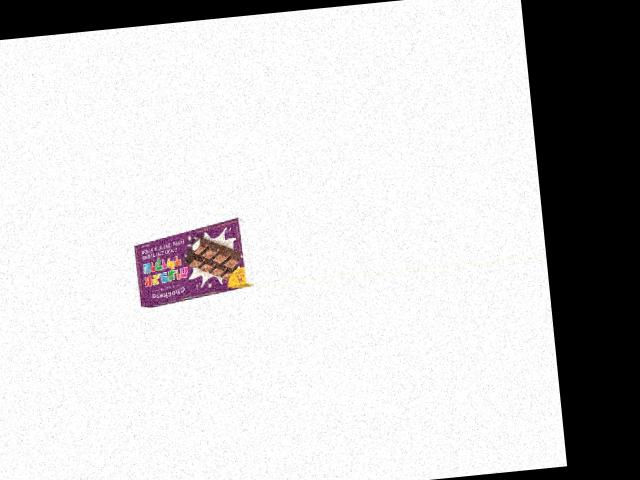chocolate: (124, 222, 256, 309)
